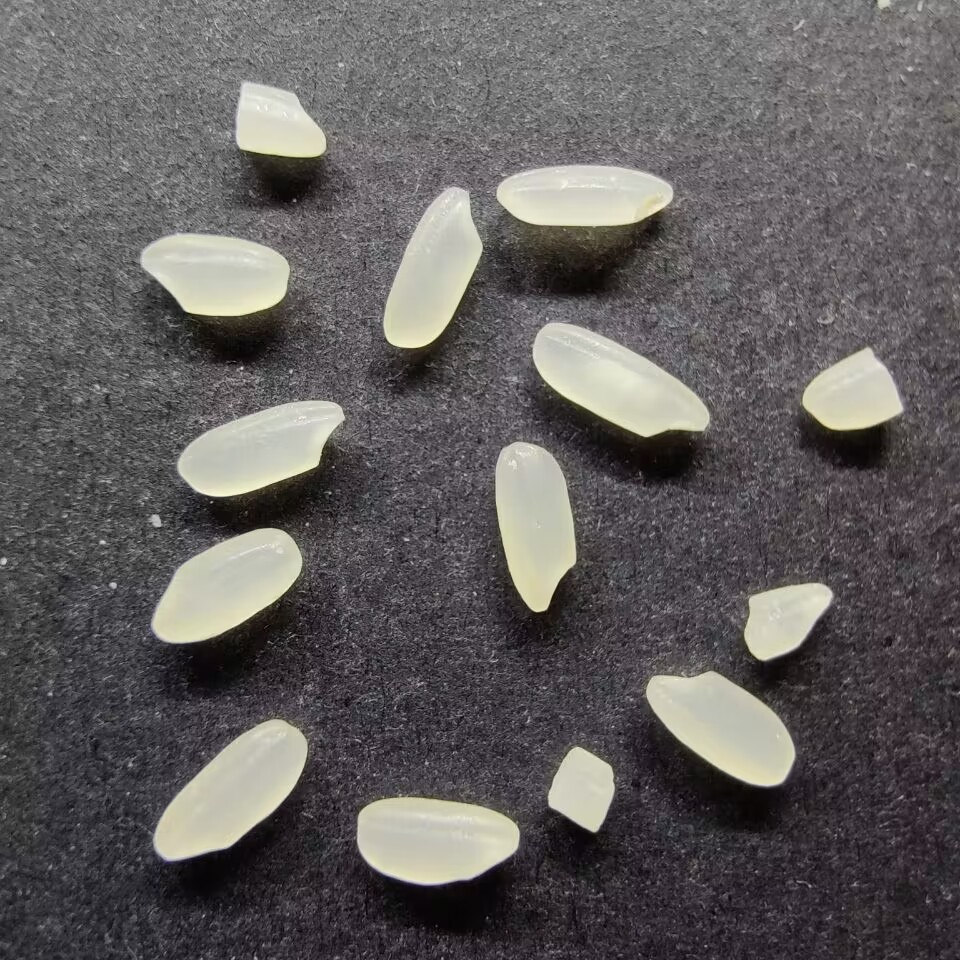broken: (799, 346, 906, 432), (229, 78, 329, 159), (741, 581, 834, 661), (544, 745, 618, 835)
rice: (151, 717, 311, 864), (530, 317, 714, 439), (640, 668, 797, 790), (150, 526, 302, 645), (380, 185, 487, 350), (173, 397, 346, 499), (492, 439, 578, 615), (354, 796, 523, 885), (137, 230, 290, 319), (493, 165, 676, 226)
